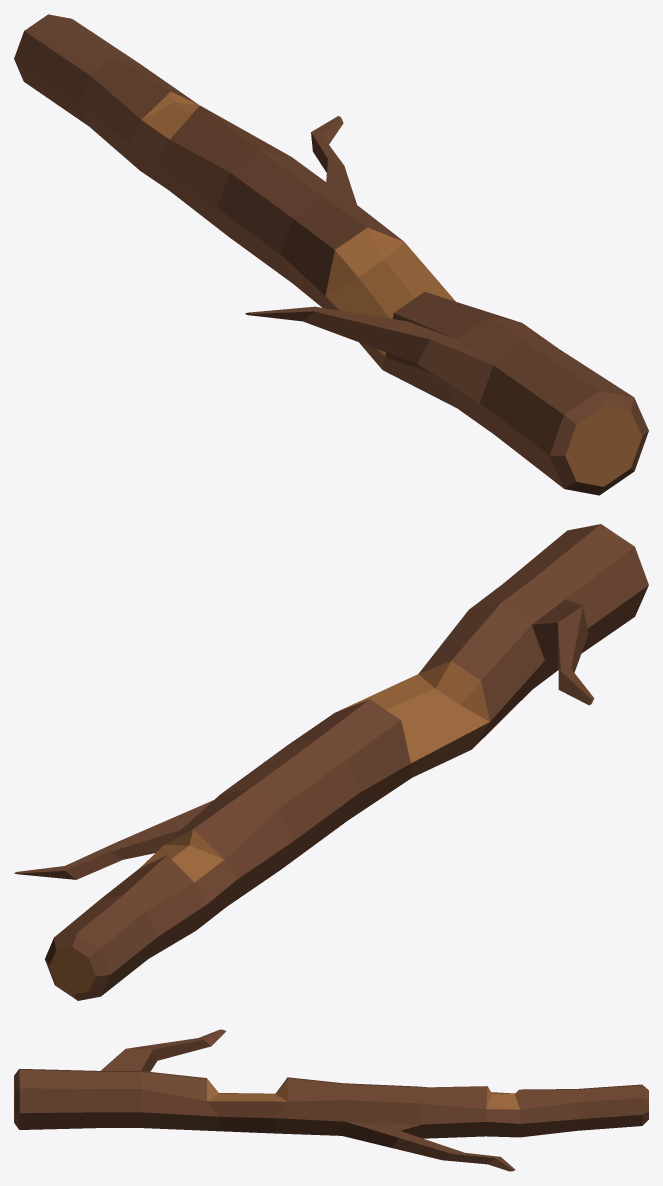
The model's file is Tree_Dead_Branch.fbx.
3 views of the same model, one above another, from view 1: azimuth 30°, elevation 25°; view 2: azimuth 150°, elevation 25°; view 3: azimuth 270°, elevation 25° (orthographic). The views are drawn at different scales.
Visible parts, largest first — view 1: Tree_Dead_Branch; view 2: Tree_Dead_Branch; view 3: Tree_Dead_Branch.
Part boxes in pixels (x1,y1,x2,y2): Tree_Dead_Branch: (14, 14, 648, 495); Tree_Dead_Branch: (14, 524, 648, 1000); Tree_Dead_Branch: (14, 1029, 648, 1171).
Bounding box in the file's own units: 0.4958 × 0.1552 × 1.38.
